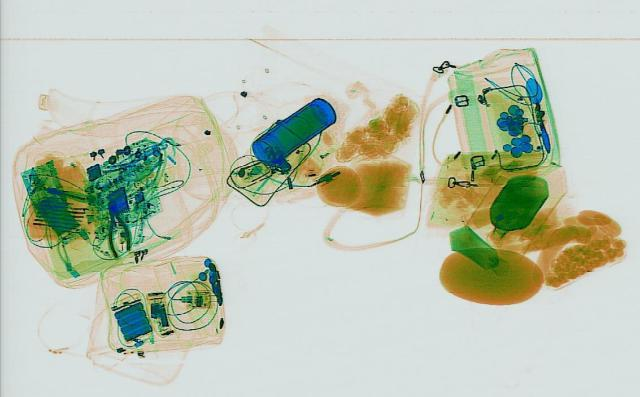Pliers: (98, 198, 134, 255)
